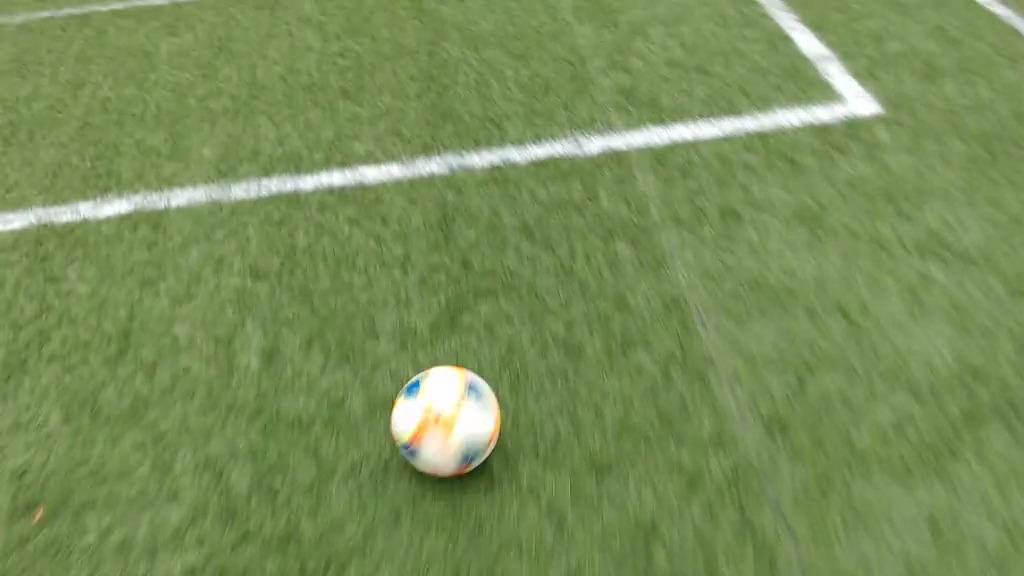ball: (392, 365, 499, 478)
